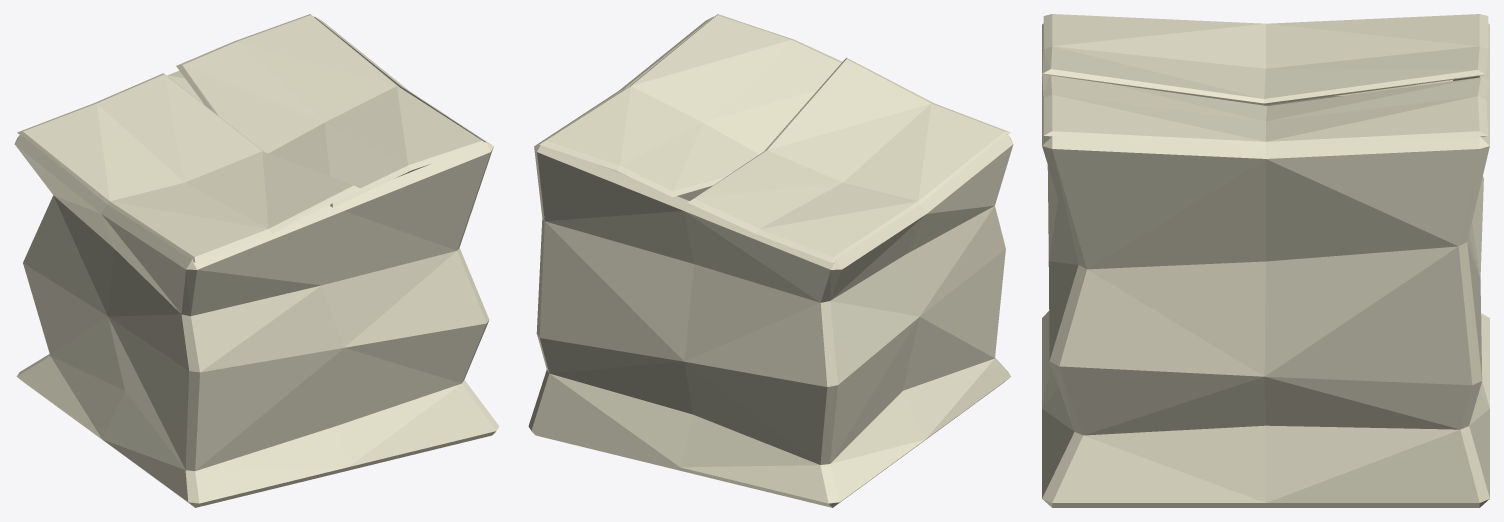
The picture shows the model from 3 angles, left to right: view 1: azimuth 30°, elevation 25°; view 2: azimuth 150°, elevation 25°; view 3: azimuth 270°, elevation 25°; orthographic projection. The views are drawn at different scales.
Parts seen in each view (by area): view 1: Box3; view 2: Box3; view 3: Box3.
Boxes of the visible parts, x1,y1,x2,y2 form: Box3: [14, 14, 499, 507]; Box3: [528, 14, 1013, 507]; Box3: [1042, 14, 1489, 507].
Bounding box in the file's own units: 201 × 183 × 200.
